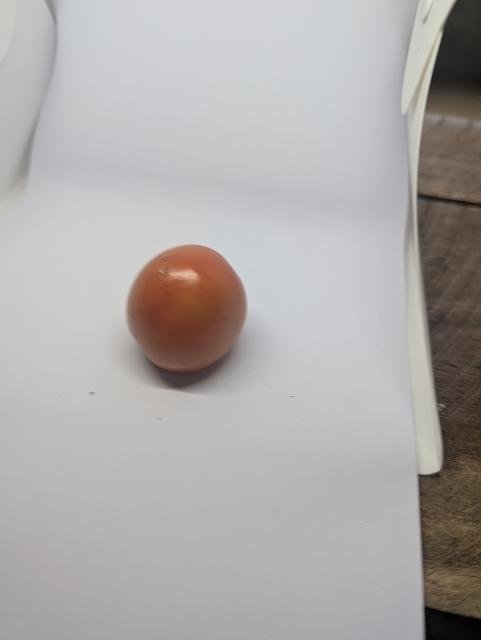red: (122, 236, 268, 401)
